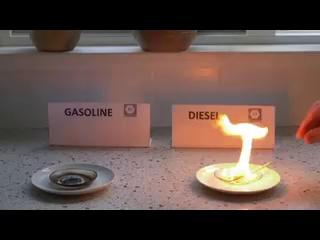Fire: (217, 114, 271, 181)
